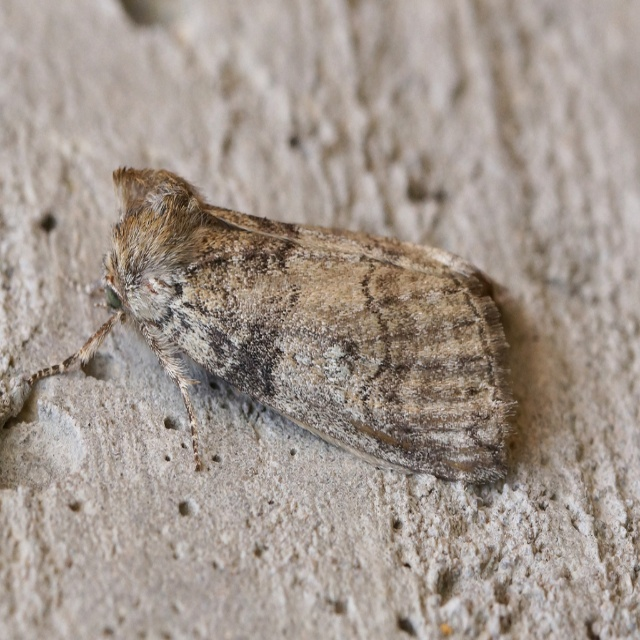Moths and butterflies: (25, 165, 519, 485)
